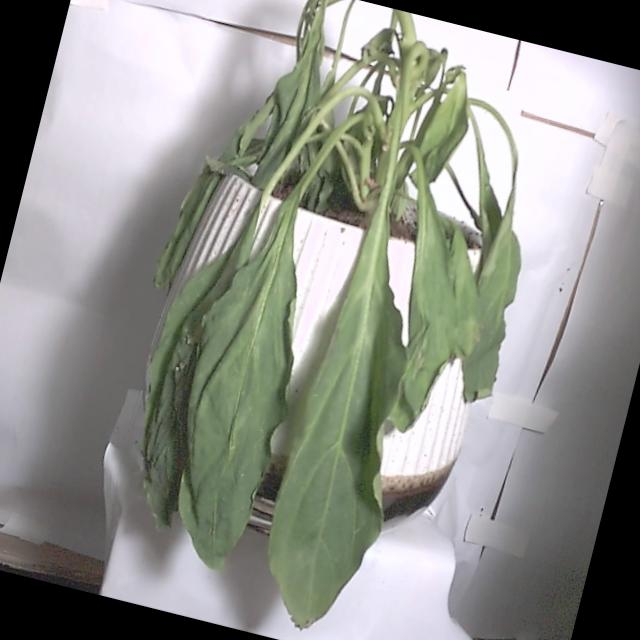Leaf: (246, 226, 451, 640), (146, 189, 332, 582), (109, 219, 266, 542), (369, 215, 505, 444)
